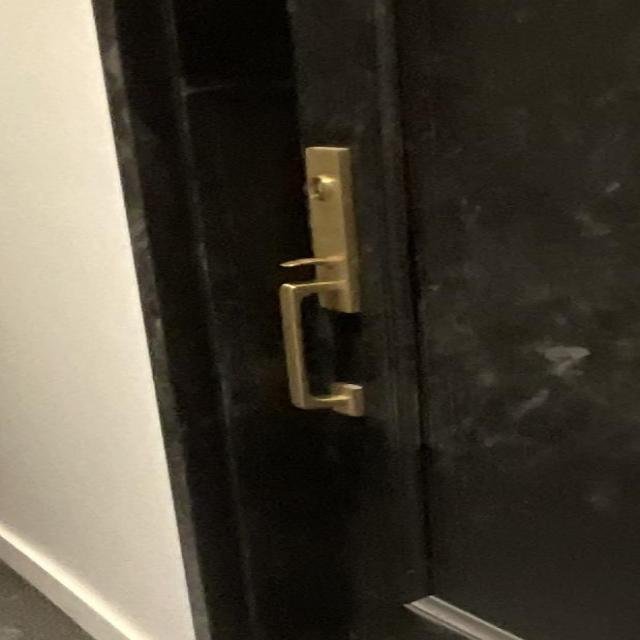door_handle: (264, 273, 383, 423)
